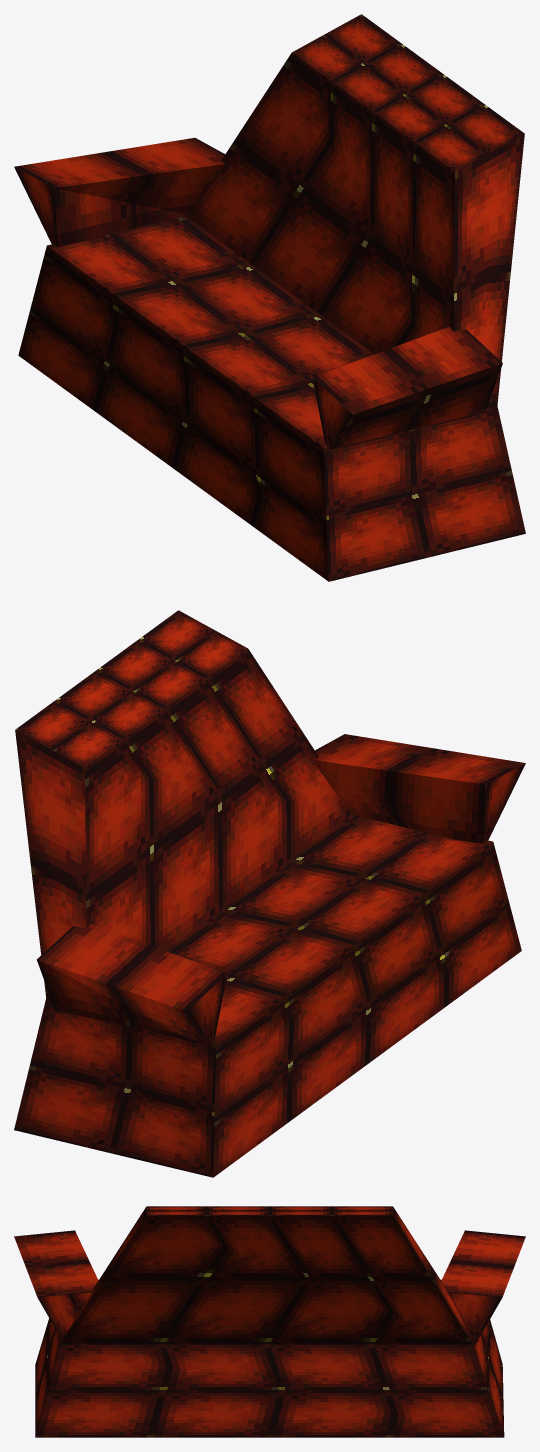
Rendered from Couch_2[Rot]_2088.glb.
The picture shows the model from 3 angles, top to bottom: view 1: azimuth 30°, elevation 25°; view 2: azimuth 150°, elevation 25°; view 3: azimuth 270°, elevation 25°; orthographic projection. The views are drawn at different scales.
Parts seen in each view (by area): view 1: pPlaneShape1, pPlaneShape2, pCylinderShape73, pCylinderShape74, pPlaneShape4, pPlaneShape6, pPlaneShape8; view 2: pPlaneShape1, pPlaneShape3, pCylinderShape73, pCylinderShape74, pPlaneShape5, pPlaneShape8, pPlaneShape6; view 3: pPlaneShape1, pCylinderShape74, pCylinderShape73, pPlaneShape3, pPlaneShape2, pPlaneShape7, pPlaneShape9, pPlaneShape5, pPlaneShape4.
Part boxes in pixels (x1,y1,x2,y2): pPlaneShape1: (18, 14, 524, 581); pPlaneShape2: (324, 406, 525, 581); pCylinderShape73: (313, 327, 502, 449); pCylinderShape74: (14, 137, 225, 247); pPlaneShape4: (453, 134, 524, 407); pPlaneShape6: (14, 167, 57, 246); pPlaneShape8: (312, 377, 352, 448); pPlaneShape1: (15, 610, 521, 1177); pPlaneShape3: (14, 998, 215, 1177); pCylinderShape73: (314, 734, 525, 843); pCylinderShape74: (36, 923, 226, 1045); pPlaneShape5: (15, 730, 86, 999); pPlaneShape8: (482, 763, 525, 843); pPlaneShape6: (187, 974, 226, 1045); pPlaneShape1: (35, 1206, 503, 1437); pCylinderShape74: (441, 1230, 525, 1297); pCylinderShape73: (14, 1230, 98, 1297); pPlaneShape3: (472, 1319, 504, 1436); pPlaneShape2: (35, 1318, 60, 1436); pPlaneShape7: (447, 1292, 502, 1345); pPlaneShape9: (37, 1292, 91, 1339); pPlaneShape5: (393, 1207, 471, 1342); pPlaneShape4: (61, 1207, 146, 1342).
Bounding box in the file's own units: 0.159 × 0.1844 × 0.3448.
Materials: 11 (11 with a texture image).
